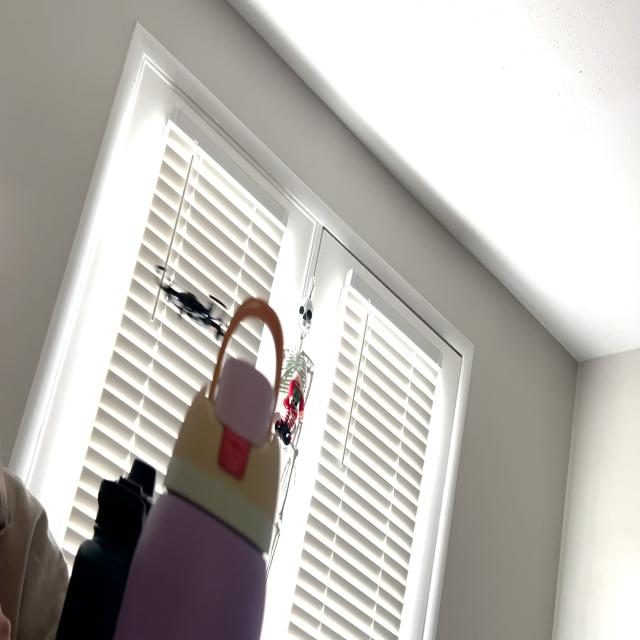drone: (140, 242, 235, 357)
